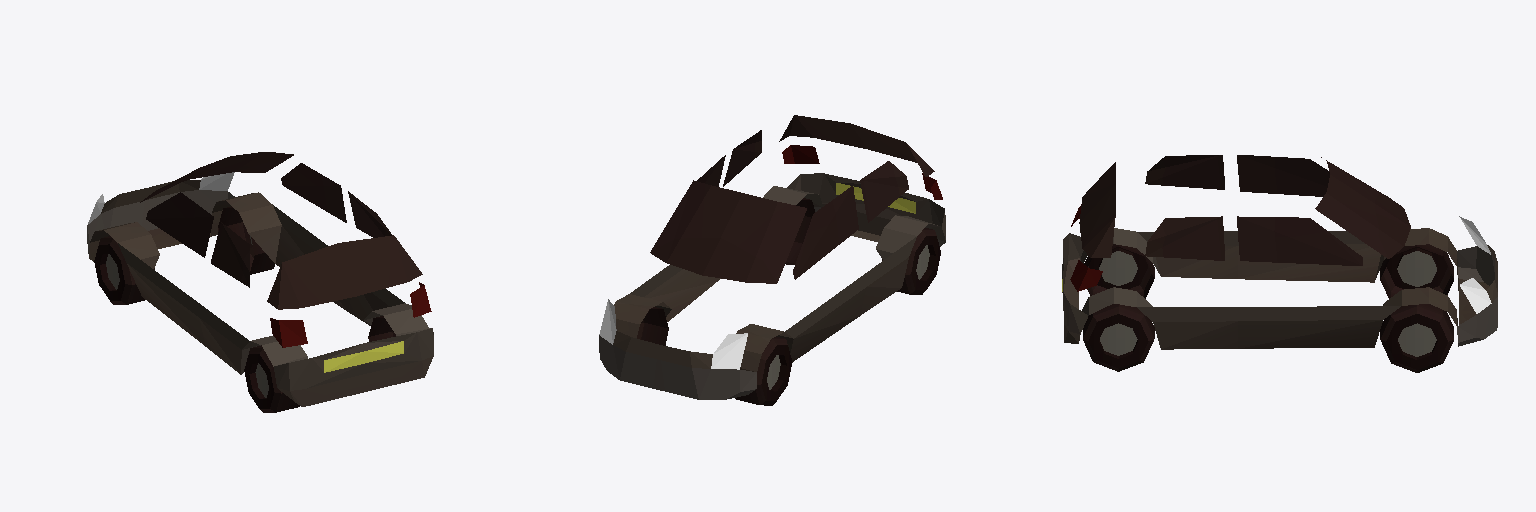
3 views of the same model, side by side, from view 1: azimuth 30°, elevation 25°; view 2: azimuth 150°, elevation 25°; view 3: azimuth 270°, elevation 25° (orthographic).
Parts seen in each view (by area): view 1: Car_Base; view 2: Car_Base; view 3: Car_Base.
Boxes of the visible parts, x1=… form: Car_Base: x1=87, y1=152, x2=433, y2=412; Car_Base: x1=599, y1=115, x2=945, y2=405; Car_Base: x1=1062, y1=155, x2=1497, y2=372.
Size of the model in its own units: 1.94 by 1.92 by 4.67.
Materials: 1 (1 with a texture image).